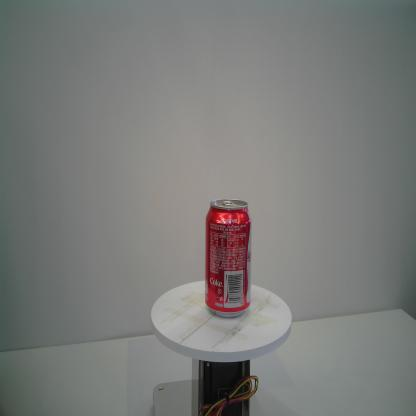Drink: (202, 196, 254, 320)
